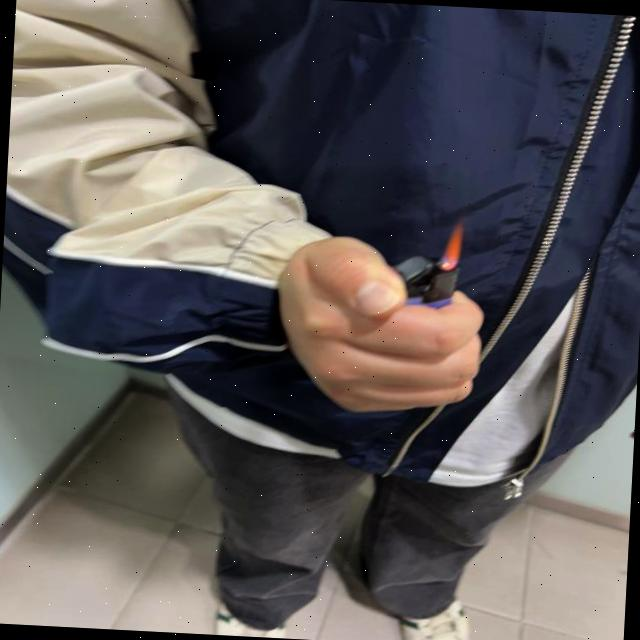fire: (434, 216, 464, 270)
